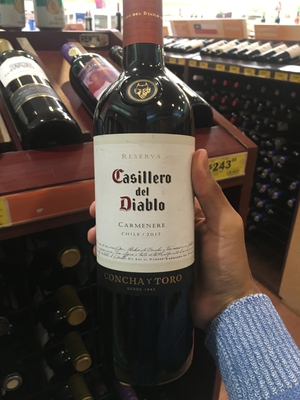casillero del diablo carmenere: (86, 17, 226, 383)
